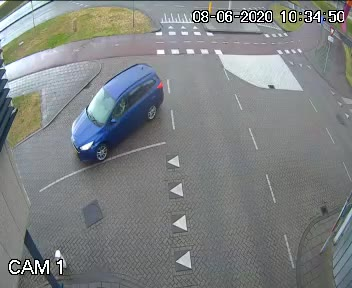car: (49, 53, 180, 168)
